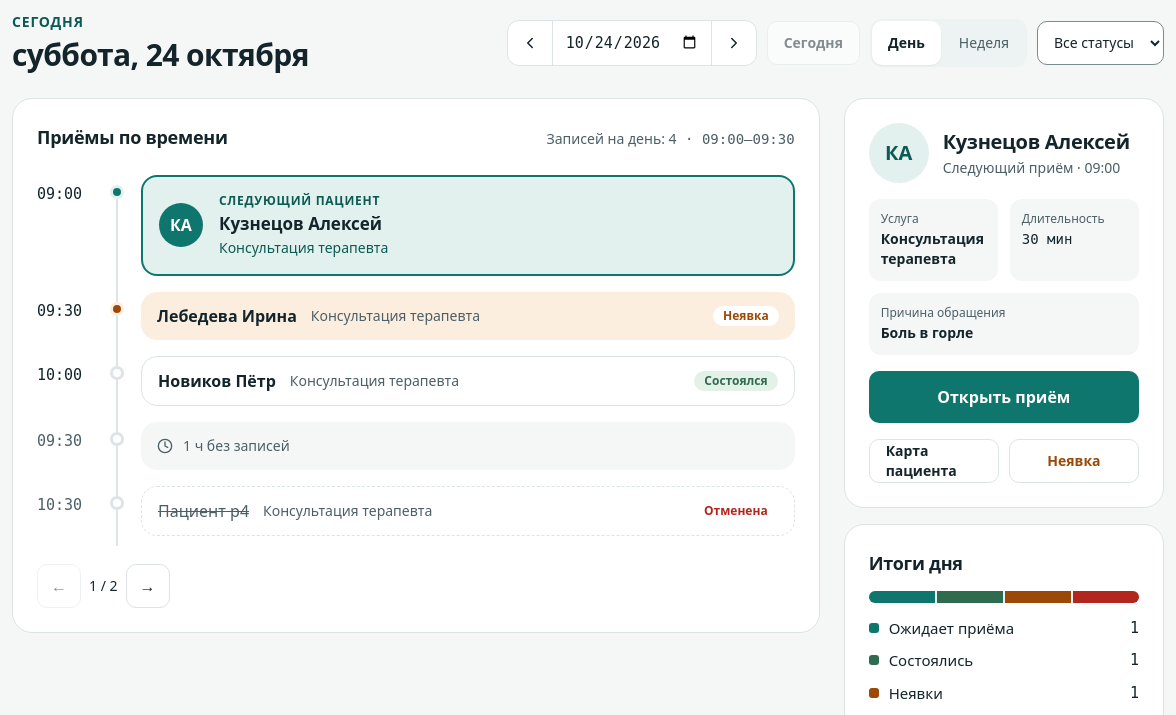
Test: DoctorJournal › should warn that the status filter covers only the shown page when the day has several pages
The width and height of the screenshot is (1176, 715).
Select "Неявка" in the dropdown named "Статус" at (1100, 43), box [1037,21,1164,65]
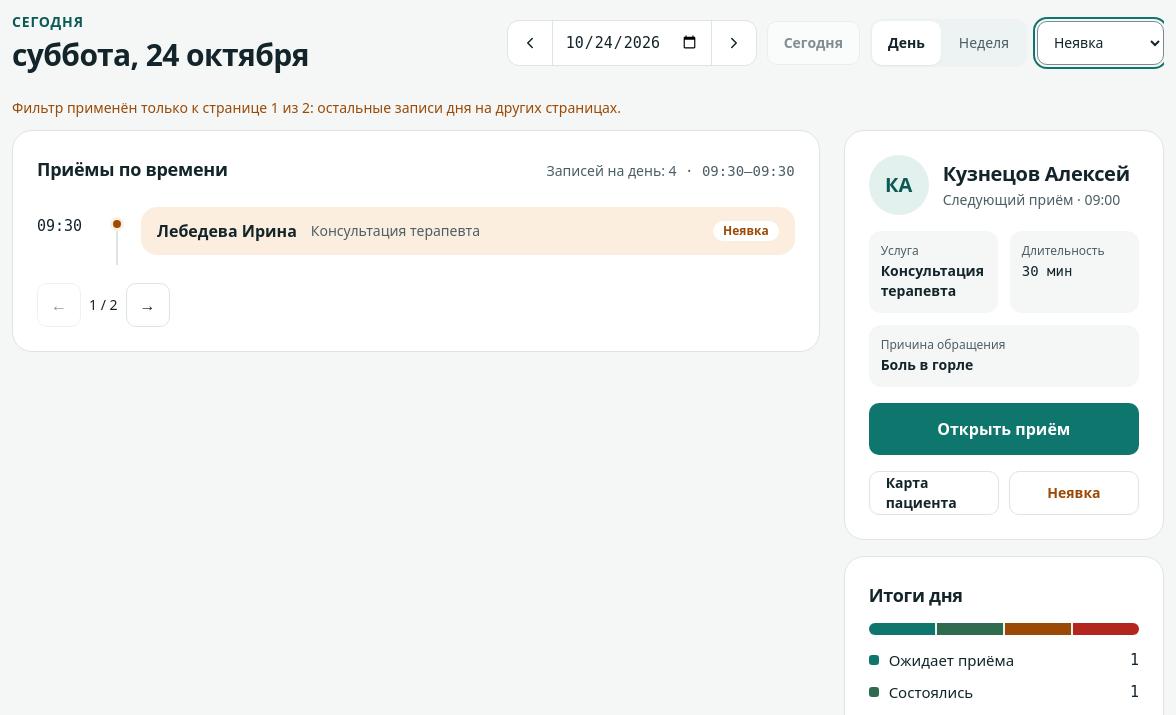
Check: the text "Фильтр применён только к странице 1 из 2" is shown, box [12,98,621,116]
